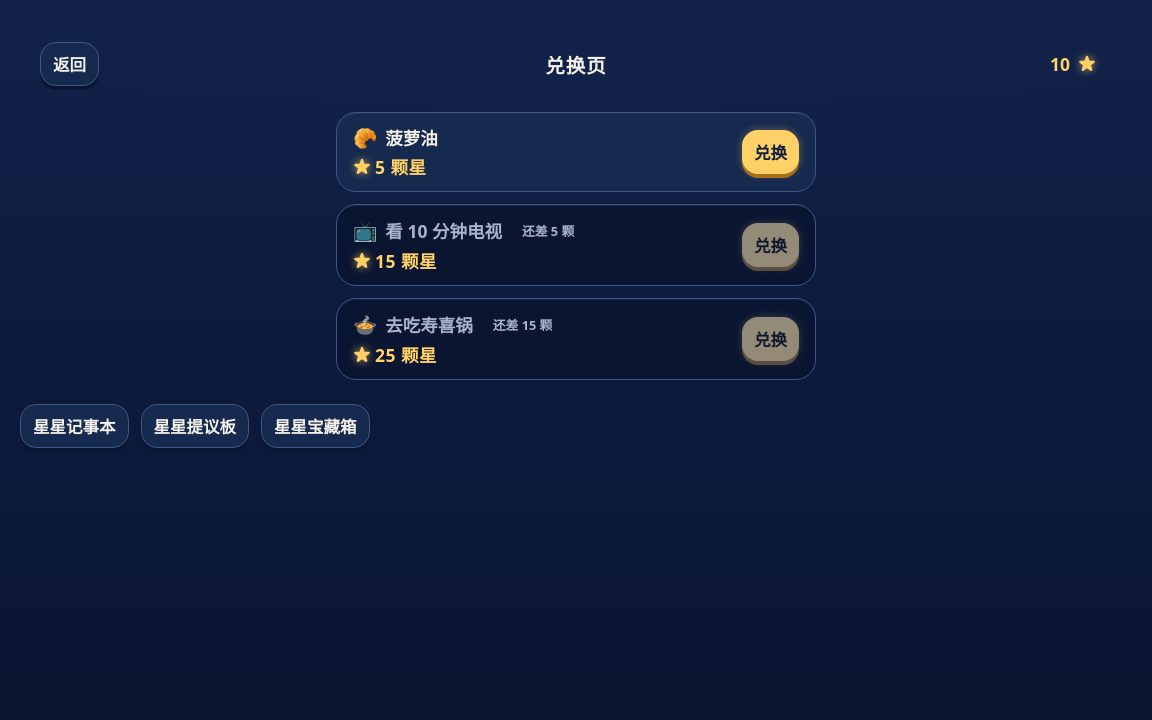
AC7-2 / AC7-3 二次确认弹窗 › AC7-2 点兑换 → 弹窗文案"用 5 颗星兑换「菠萝油」？兑换后剩余 5 颗" + 两按钮
The width and height of the screenshot is (1152, 720).
Click the button with class "star-reward-redeem" in the row of "菠萝油". click: (770, 152)
box: [742,130,799,174]
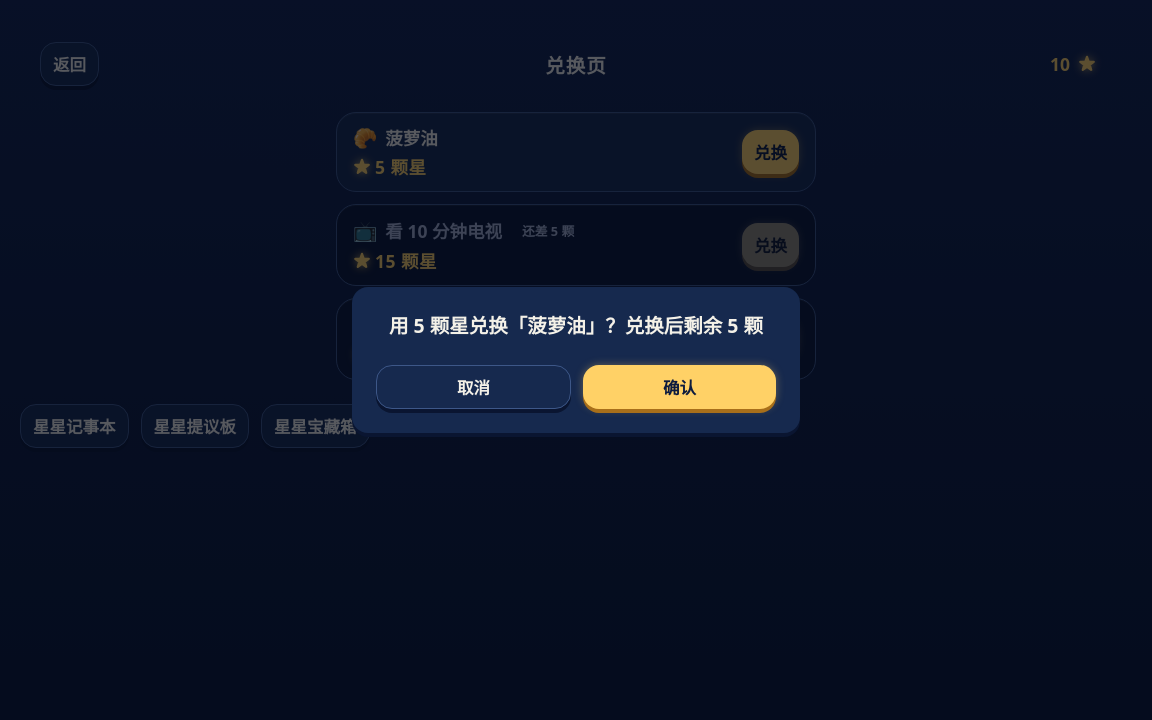
Check: the dialog shows "用 5 颗星兑换「菠萝油」？兑换后剩余 5 颗", box [389,312,763,339]
Check: the dialog shows "取消", box [376,365,571,409]
Check: the dialog shows "确认", box [583,365,776,409]
